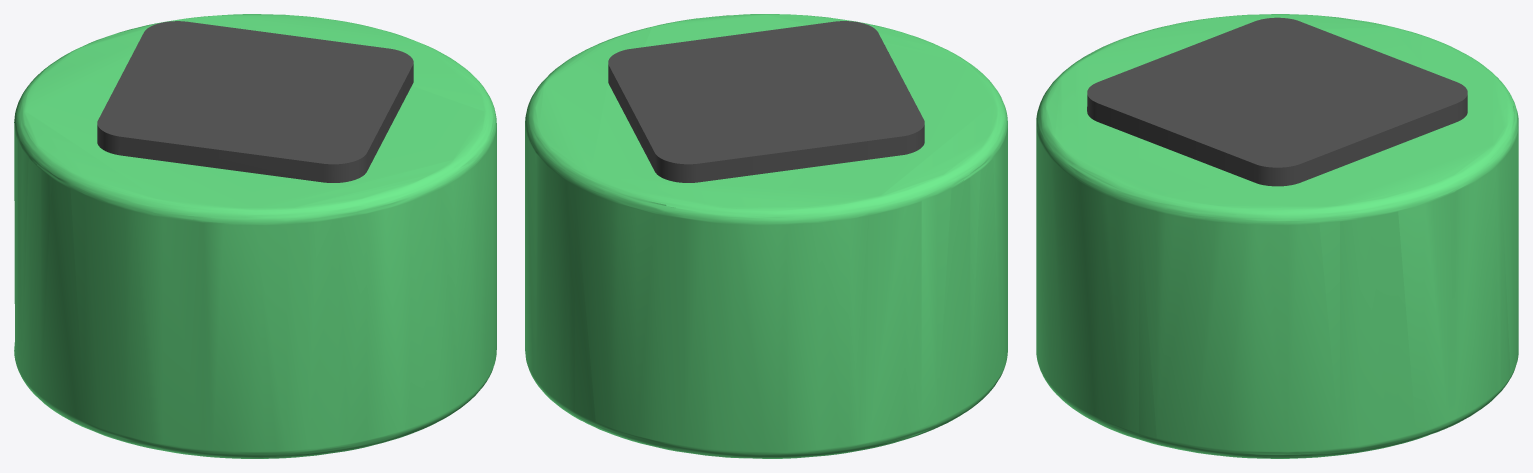
File: FigureStandDiamond.fbx
3 renders of one model, left to right at view 1: azimuth 30°, elevation 25°; view 2: azimuth 150°, elevation 25°; view 3: azimuth 270°, elevation 25°, orthographic.
Parts seen in each view (by area): view 1: Figure Stand Diamond; view 2: Figure Stand Diamond; view 3: Figure Stand Diamond.
Part boxes in pixels (left/top/right/bottom): Figure Stand Diamond: left=14, top=14, right=496, bottom=458; Figure Stand Diamond: left=525, top=14, right=1007, bottom=458; Figure Stand Diamond: left=1036, top=14, right=1518, bottom=458.
Size of the model in its own units: 69.94 by 42.99 by 69.93.
